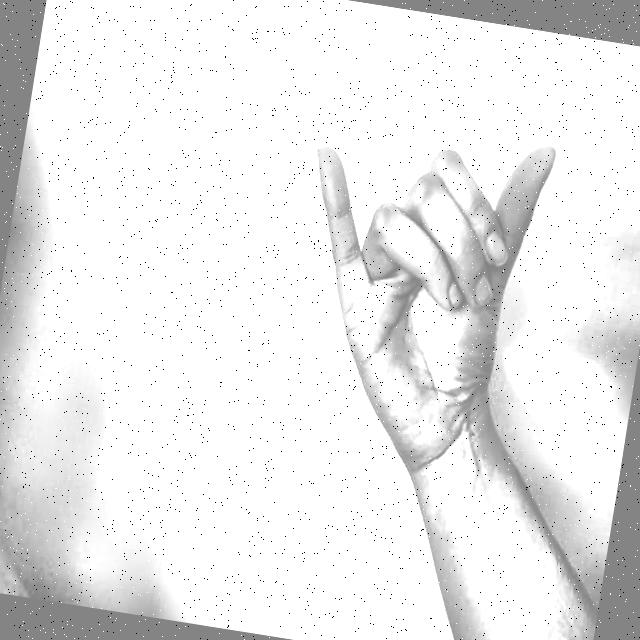Oi: (240, 62, 598, 526)
